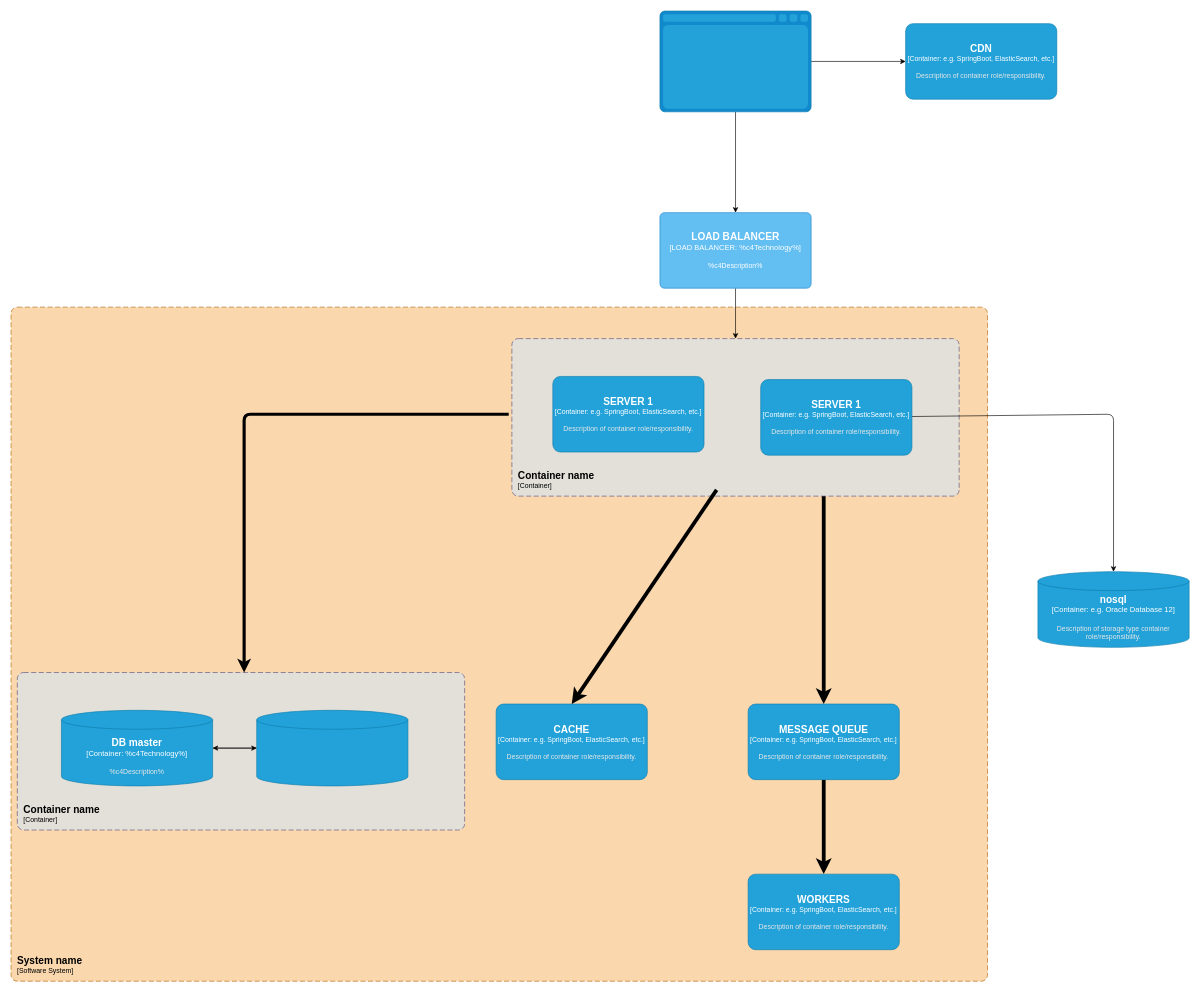
The diagram is 1200 pixels wide and 992 high, and some of its shapes have lost their labels. The centre of each missing label's shape, as x and y in pixels:
"DB - slave [Container: %c4Technology%] %c4Description%" goes at point (332, 748).
"Web Browser [Container: React, next..] %c4Description%" goes at point (735, 61).
